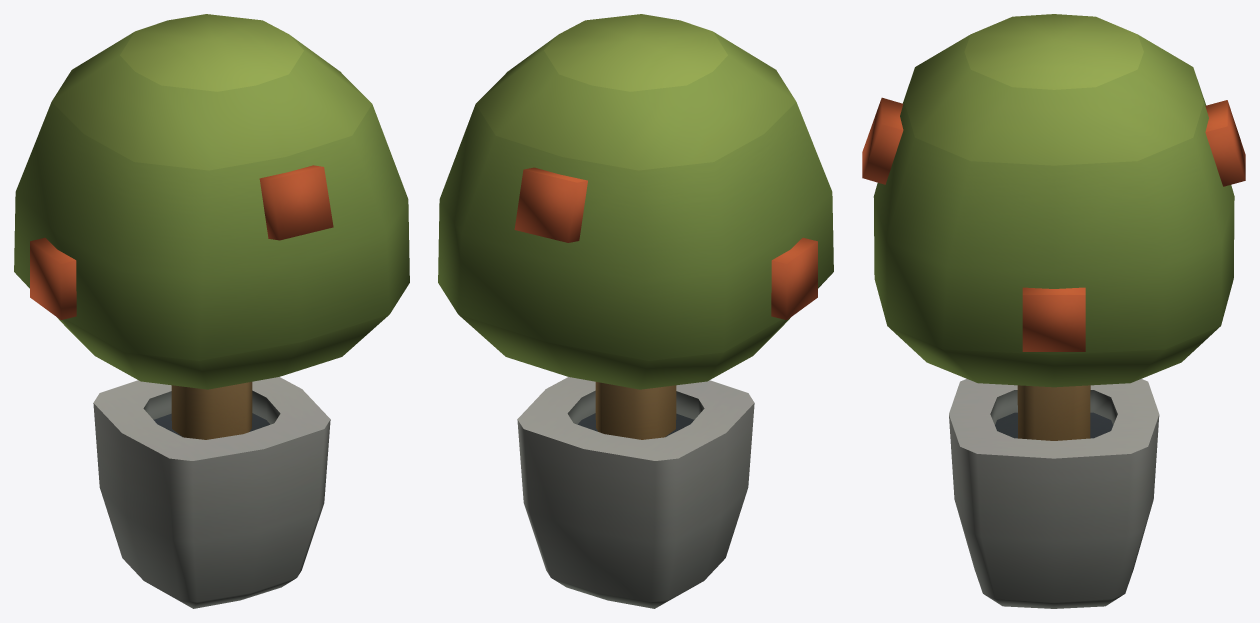
The model's file is bush_plant_stem_pot.fbx.
3 renders of one model, left to right at view 1: azimuth 30°, elevation 25°; view 2: azimuth 150°, elevation 25°; view 3: azimuth 270°, elevation 25°, orthographic.
Visible parts, largest first — view 1: bush_plant_stem_pot; view 2: bush_plant_stem_pot; view 3: bush_plant_stem_pot.
Part boxes in pixels (left/top/right/bottom): bush_plant_stem_pot: left=14, top=14, right=409, bottom=608; bush_plant_stem_pot: left=438, top=14, right=833, bottom=608; bush_plant_stem_pot: left=862, top=14, right=1245, bottom=608.
Bounding box in the file's own units: 78.04 × 121 × 76.9.
